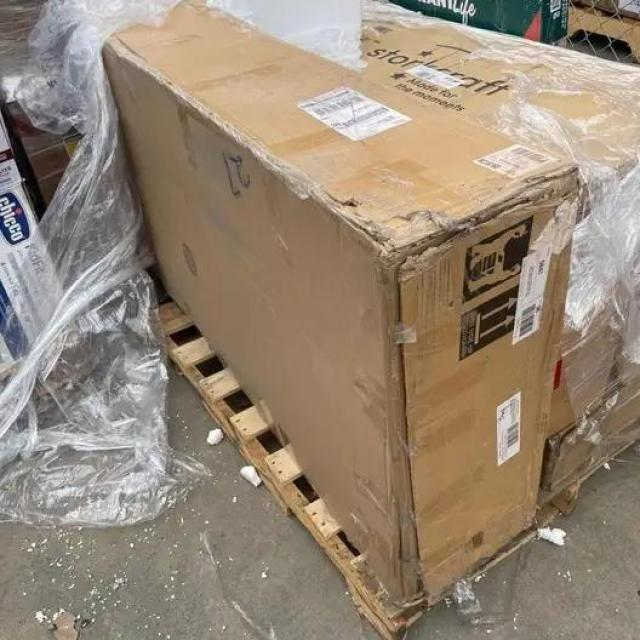cardboard: (102, 0, 640, 617)
